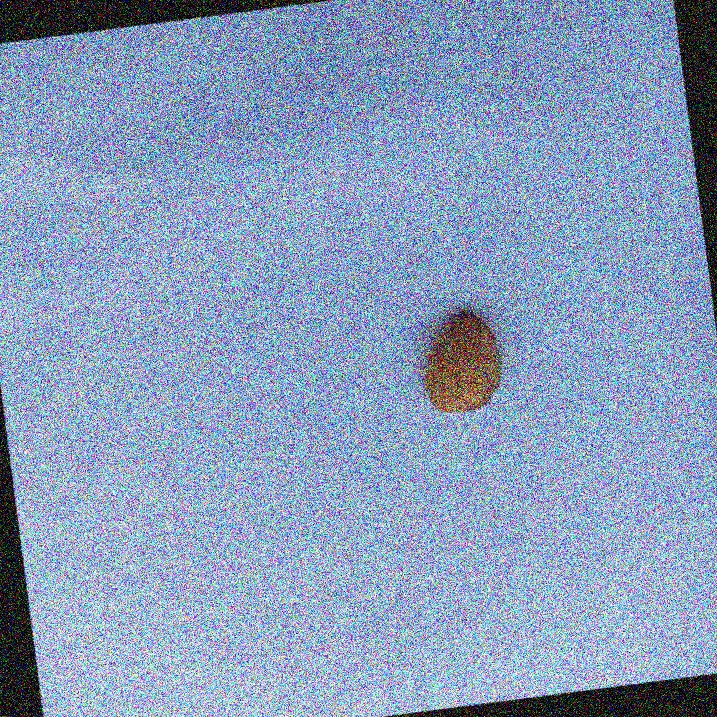grade2: (409, 303, 511, 421)
